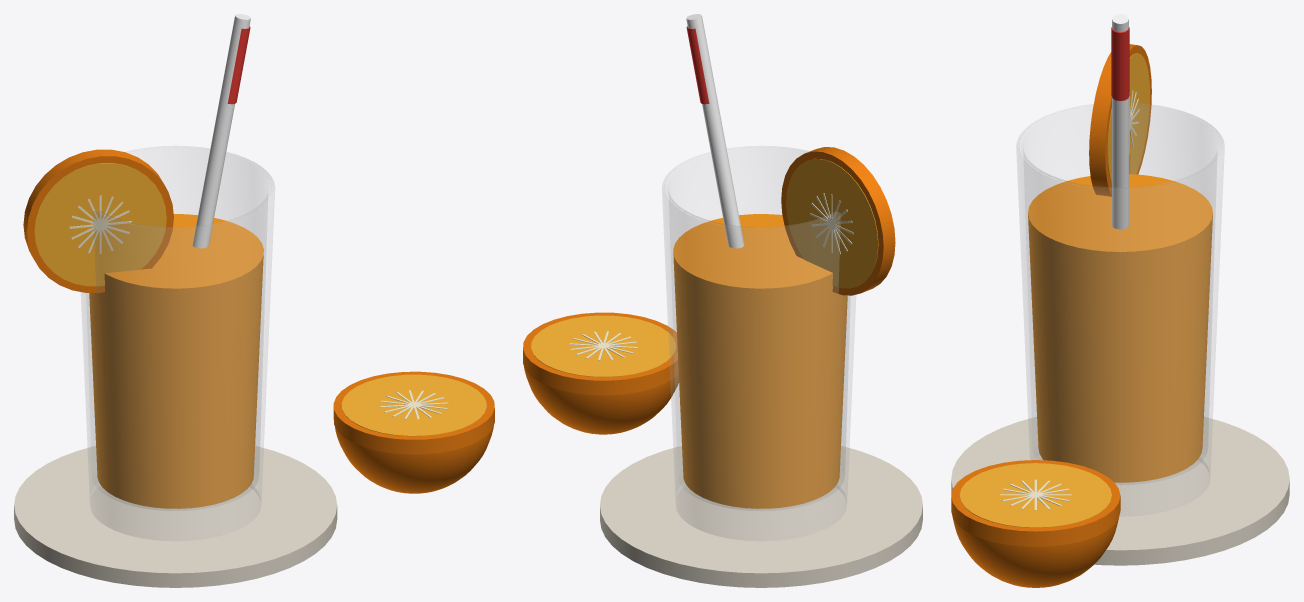
Rendered from suco-laranja.glb.
3 views of the same model, side by side, from view 1: azimuth 30°, elevation 25°; view 2: azimuth 150°, elevation 25°; view 3: azimuth 270°, elevation 25° (orthographic). The views are drawn at different scales.
Parts seen in each view (by area): view 1: suco-laranja, copo, gomos (×2); view 2: suco-laranja, copo, gomos (×2); view 3: suco-laranja, copo, gomos.
Part boxes in pixels (<box>): suco-laranja: <box>14,14,494,587</box>; copo: <box>81,146,274,540</box>; gomos (×2): <box>69,195,448,419</box>; suco-laranja: <box>523,14,922,587</box>; copo: <box>662,146,855,540</box>; gomos (×2): <box>569,193,853,360</box>; suco-laranja: <box>951,14,1289,587</box>; copo: <box>1016,103,1224,516</box>; gomos: <box>1000,479,1071,510</box>.
Size of the model in its own units: 0.1756 by 0.1999 by 0.12.
